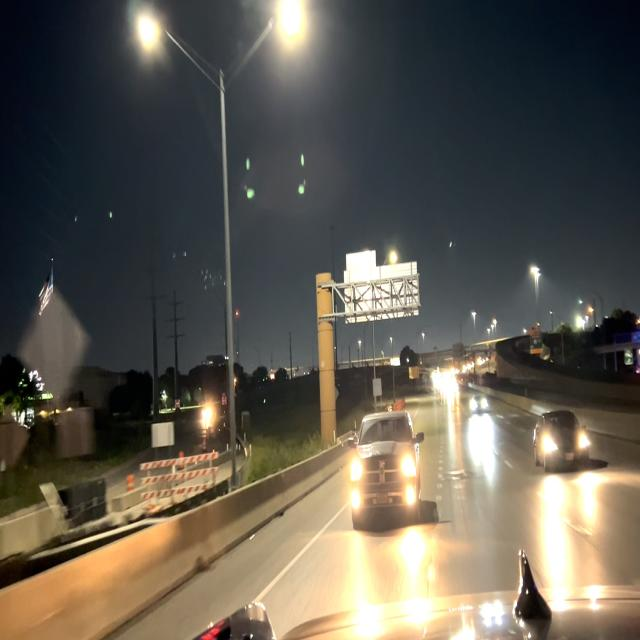back-of-sign: (18, 286, 89, 403), (345, 251, 419, 325), (0, 407, 26, 466)
